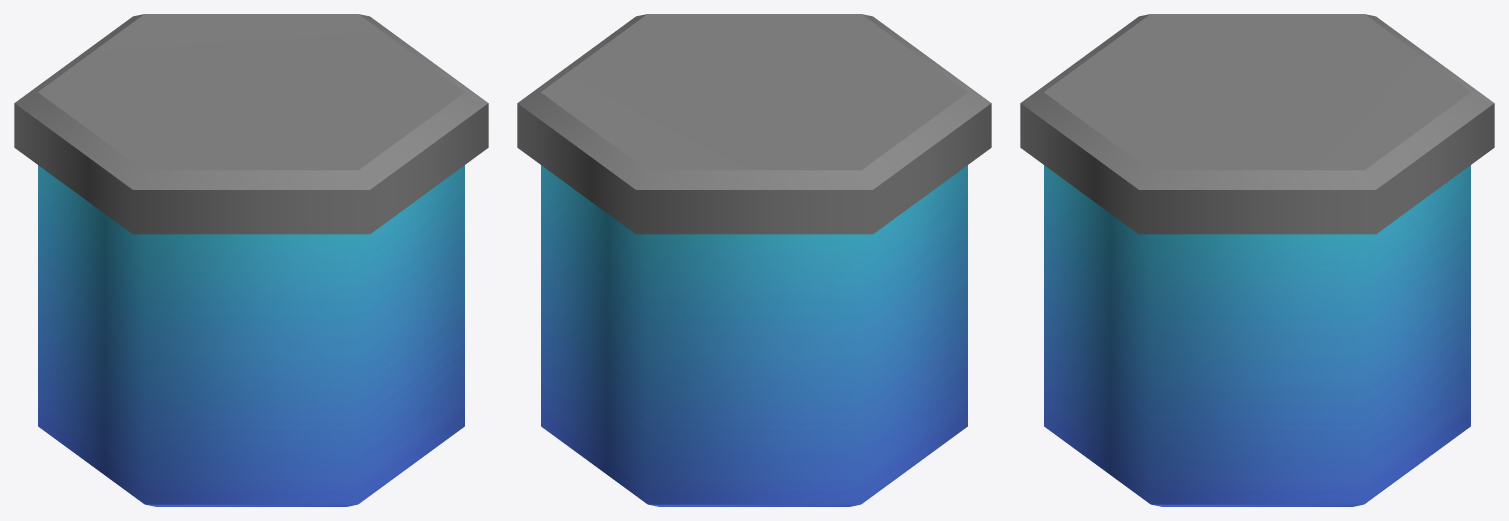
Rendered from Jar_2_K.fbx.
3 renders of one model, left to right at view 1: azimuth 30°, elevation 25°; view 2: azimuth 150°, elevation 25°; view 3: azimuth 270°, elevation 25°, orthographic.
Parts seen in each view (by area): view 1: Jar_2_K; view 2: Jar_2_K; view 3: Jar_2_K.
Part boxes in pixels (box(x1,y1,x2,y2)): Jar_2_K: box(14, 14, 488, 506); Jar_2_K: box(517, 14, 991, 506); Jar_2_K: box(1020, 14, 1494, 506).
Bounding box in the file's own units: 17.99 × 16.69 × 20.77.
